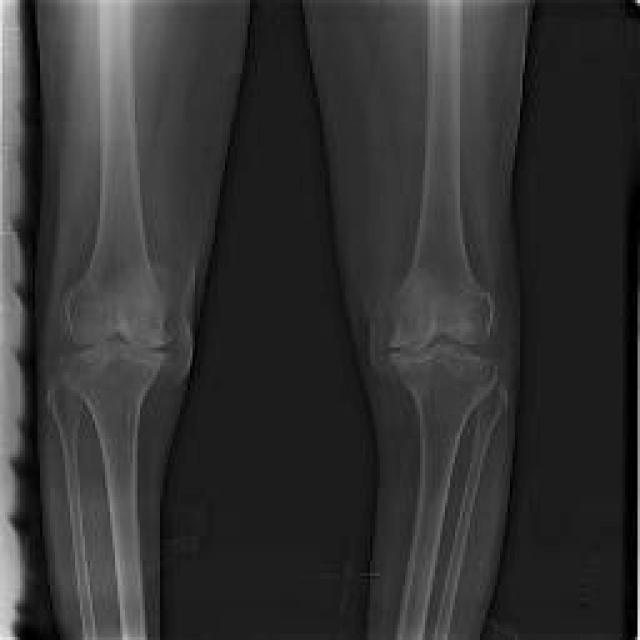normal: (48, 3, 170, 637), (386, 2, 502, 640)
